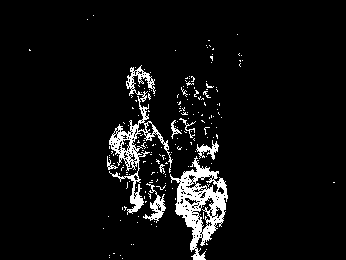person: (186, 147, 233, 260), (136, 123, 170, 226), (103, 120, 138, 220), (127, 58, 164, 122), (176, 74, 203, 137), (197, 80, 225, 134)
